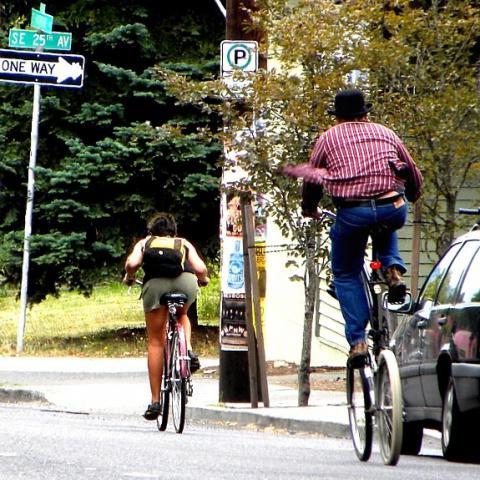car: (384, 234, 480, 449)
